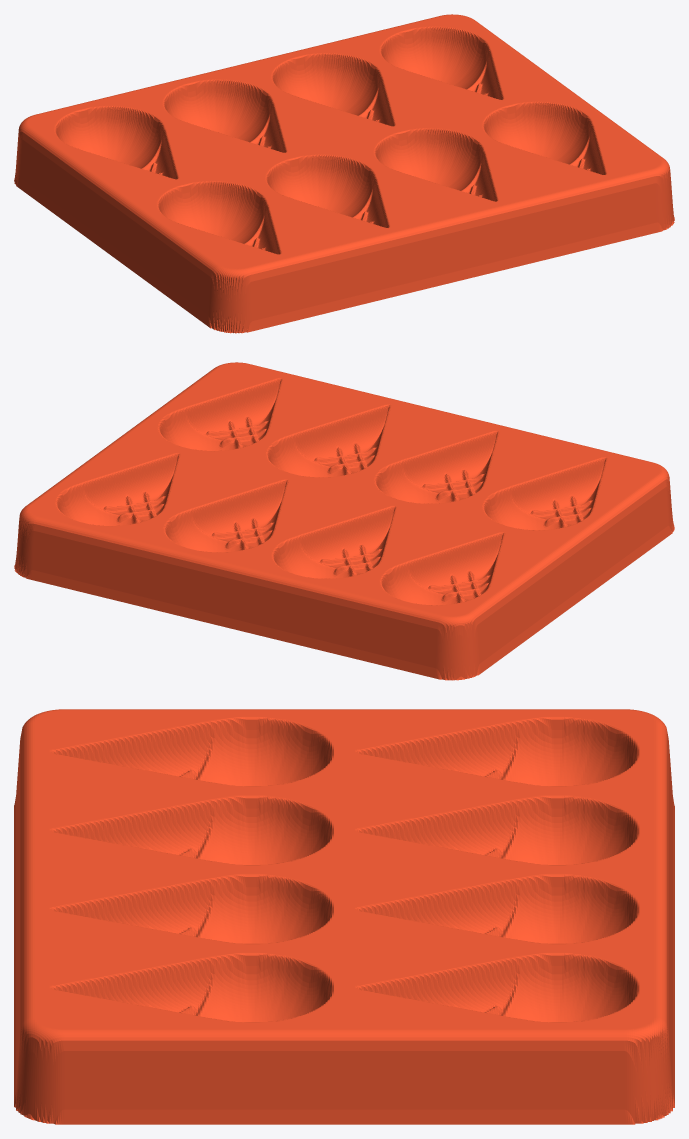
Rendered from mold.glb.
3 views of the same model, one above another, from view 1: azimuth 30°, elevation 25°; view 2: azimuth 150°, elevation 25°; view 3: azimuth 270°, elevation 25° (orthographic). The views are drawn at different scales.
Visible parts, largest first — view 1: geometry_0; view 2: geometry_0; view 3: geometry_0.
Boxes of the visible parts, x1,y1,x2,y2 form: geometry_0: [14, 14, 674, 333]; geometry_0: [14, 362, 674, 680]; geometry_0: [14, 709, 674, 1124].
Bounding box in the file's own units: 0.1454 × 0.0175 × 0.1209.
